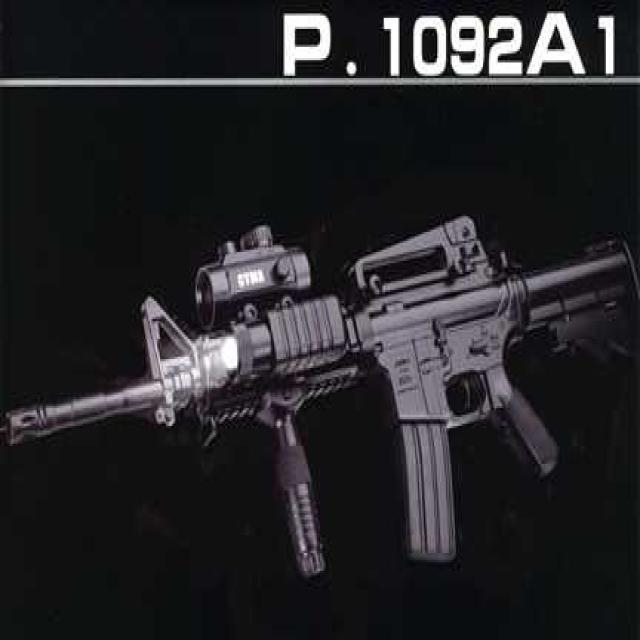RifleTel: (0, 206, 640, 584)
